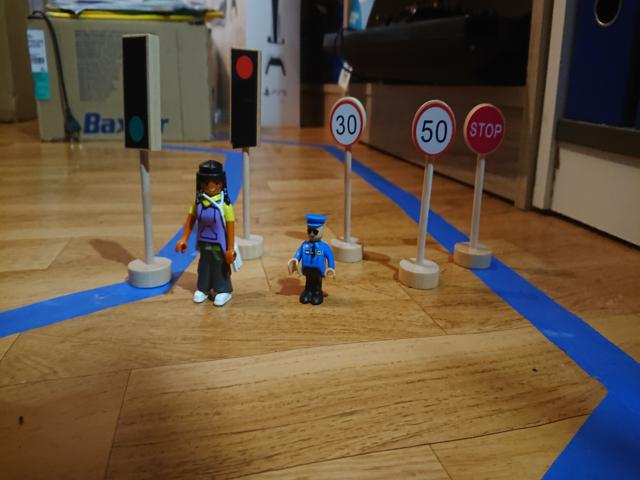30 speed sign: (330, 98, 364, 147)
50 speed sign: (409, 100, 455, 158)
green light: (126, 38, 147, 146)
person: (176, 160, 240, 309), (283, 212, 335, 308)
red light: (233, 48, 256, 144)
stop sign: (465, 105, 507, 156)
